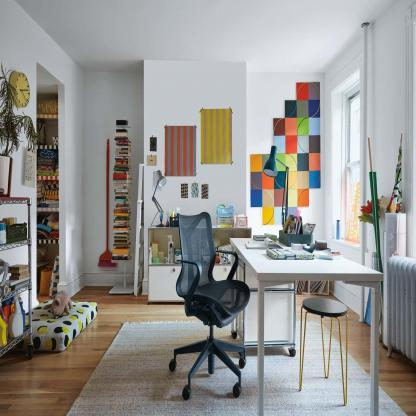chair: (162, 208, 253, 405), (292, 293, 354, 411)
light: (262, 142, 293, 249), (143, 164, 174, 230)
table: (224, 222, 382, 416)
